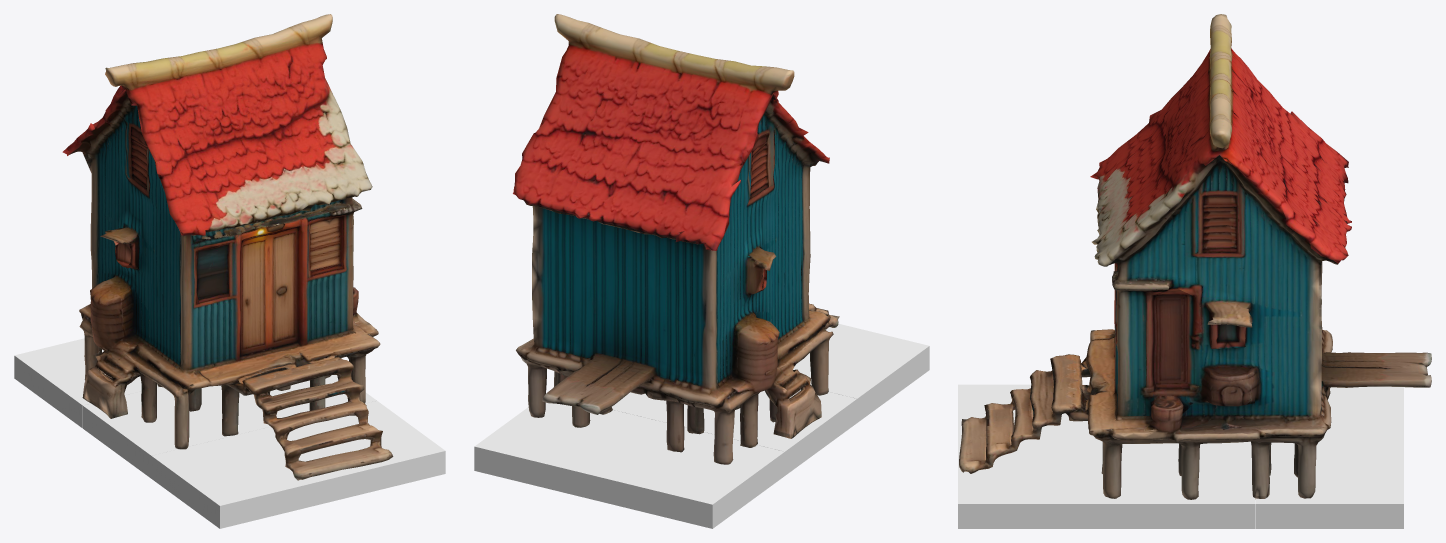
File: cabin.glb
3 views of the same model, side by side, from view 1: azimuth 30°, elevation 25°; view 2: azimuth 150°, elevation 25°; view 3: azimuth 270°, elevation 25° (orthographic). The views are drawn at different scales.
Visible parts, largest first — view 1: cabin; view 2: cabin; view 3: cabin.
Part boxes in pixels (box(x1,y1,x2,y2)): cabin: box(14, 14, 445, 528); cabin: box(474, 14, 929, 528); cabin: box(958, 14, 1431, 528).
Size of the model in its own units: 0.5857 by 0.8619 by 0.924.
Materials: 7 (1 with a texture image).
